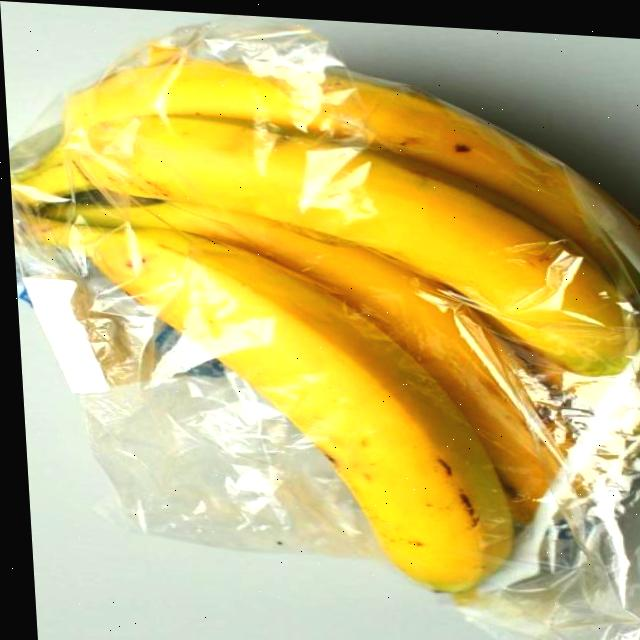banana: (9, 42, 640, 598)
